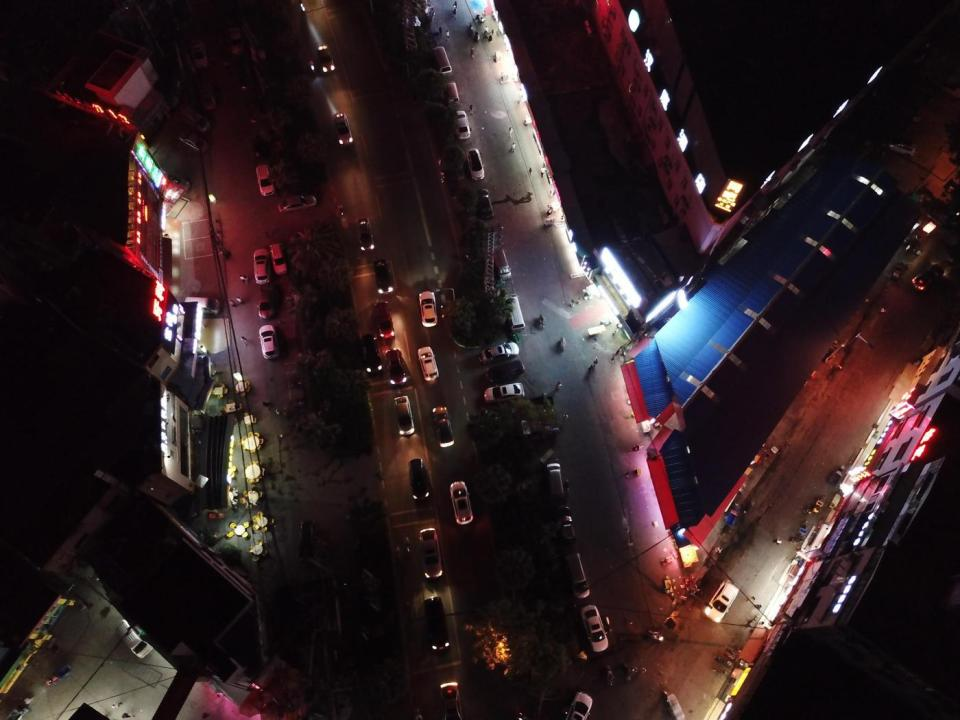car: (704, 580, 740, 622), (423, 596, 450, 651), (579, 604, 609, 652), (419, 527, 443, 579), (449, 481, 473, 525), (478, 341, 520, 365), (408, 458, 431, 500), (432, 406, 455, 448), (486, 360, 525, 384), (361, 333, 383, 374), (439, 681, 462, 720), (911, 264, 944, 291), (393, 395, 415, 435), (484, 383, 525, 404), (177, 128, 210, 154), (565, 690, 593, 720), (385, 347, 407, 385), (278, 193, 317, 214), (158, 171, 192, 195), (373, 301, 395, 338), (417, 346, 439, 382), (556, 505, 576, 543), (258, 324, 279, 360), (298, 519, 316, 560), (235, 56, 256, 91), (373, 259, 394, 294), (187, 37, 209, 70), (418, 291, 438, 327), (256, 282, 275, 319), (333, 111, 353, 146), (255, 164, 276, 196), (357, 217, 375, 252), (316, 43, 336, 74), (474, 188, 494, 219), (253, 248, 270, 284), (466, 148, 485, 180), (269, 243, 288, 274), (888, 140, 920, 158), (226, 26, 245, 56), (453, 110, 471, 140), (199, 83, 217, 111)
van: (114, 619, 153, 658), (564, 551, 590, 599), (178, 104, 211, 133), (502, 294, 525, 332), (431, 46, 453, 78), (184, 296, 220, 314), (546, 463, 564, 499), (492, 249, 512, 281), (444, 81, 460, 107)
